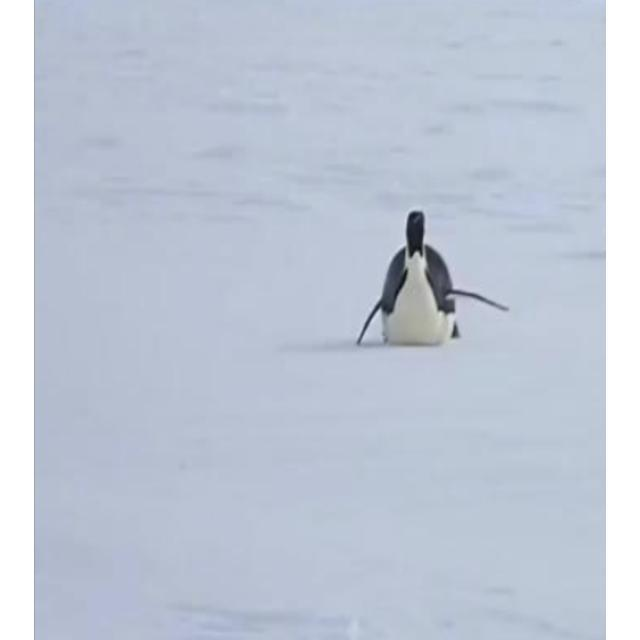penguin: (357, 212, 511, 347)
